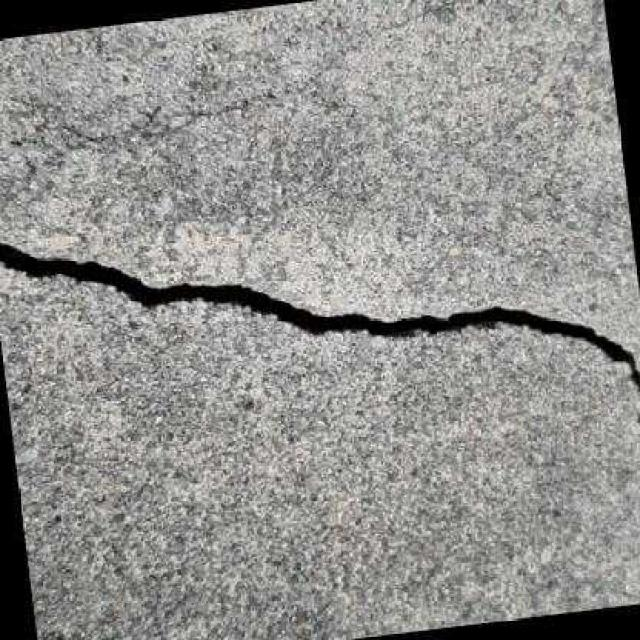D00: (0, 234, 640, 424)
